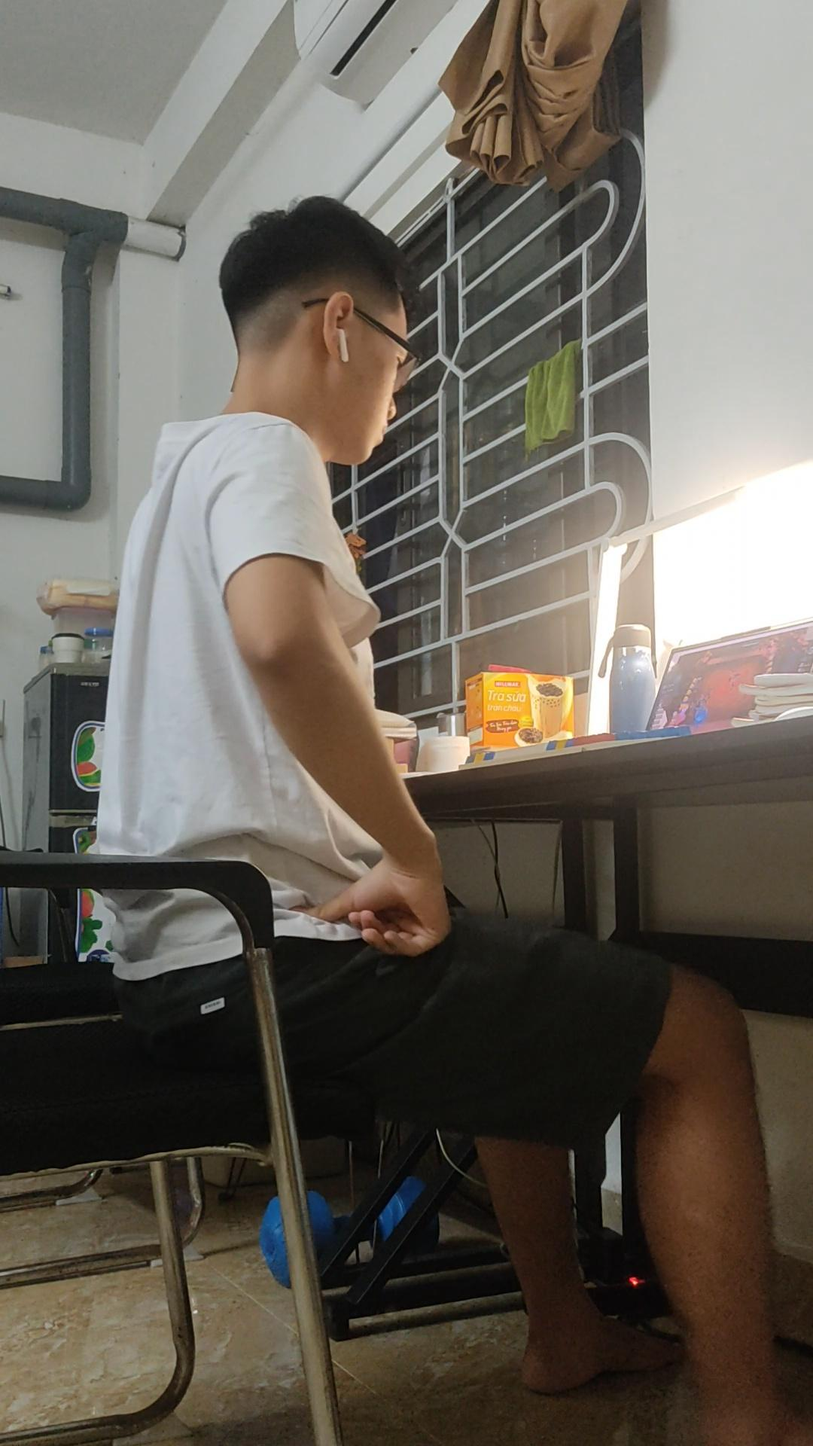GoodPosture: (111, 198, 784, 1445)
